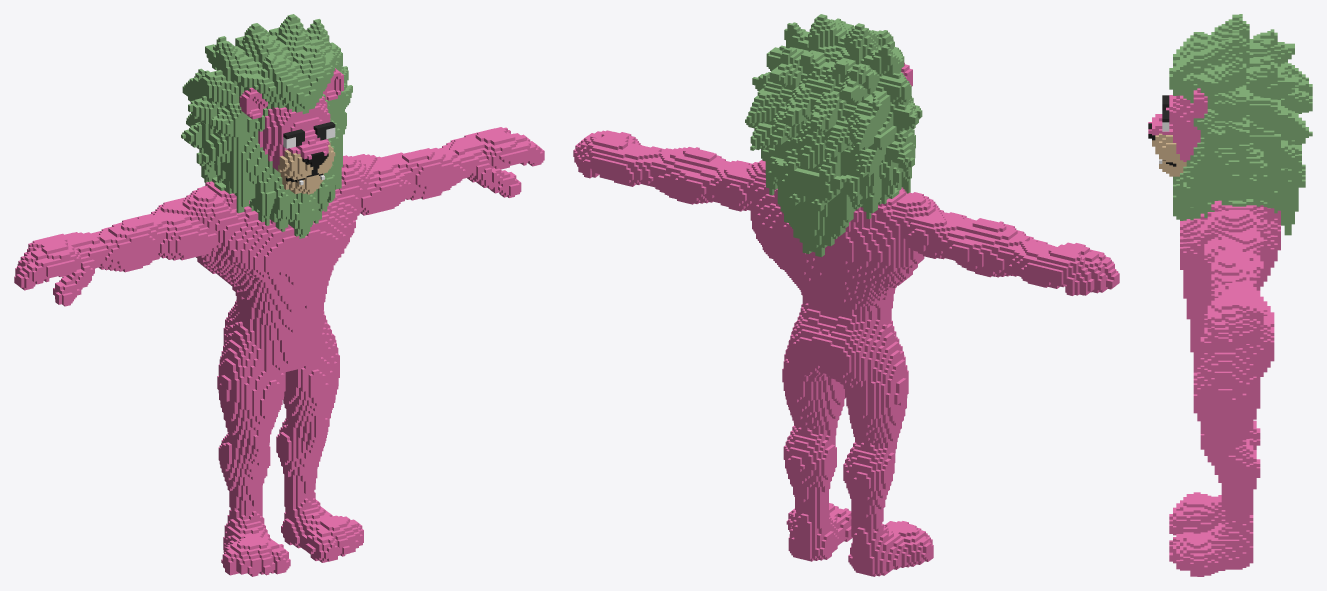
File: 170-BF8uWbuA.glb
3 views of the same model, side by side, from view 1: azimuth 30°, elevation 25°; view 2: azimuth 150°, elevation 25°; view 3: azimuth 270°, elevation 25° (orthographic). The views are drawn at different scales.
Parts seen in each view (by area): view 1: standard; view 2: standard; view 3: standard.
Boxes of the visible parts, bbox=[...] form: standard: bbox=[14, 14, 544, 576]; standard: bbox=[573, 14, 1119, 576]; standard: bbox=[1148, 14, 1312, 576].
Bounding box in the file's own units: 17.2 × 16.5 × 4.7.
4 materials, 4 textured.
